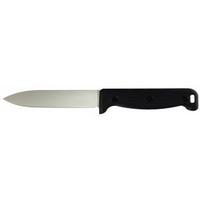knife: (2, 85, 199, 119)
